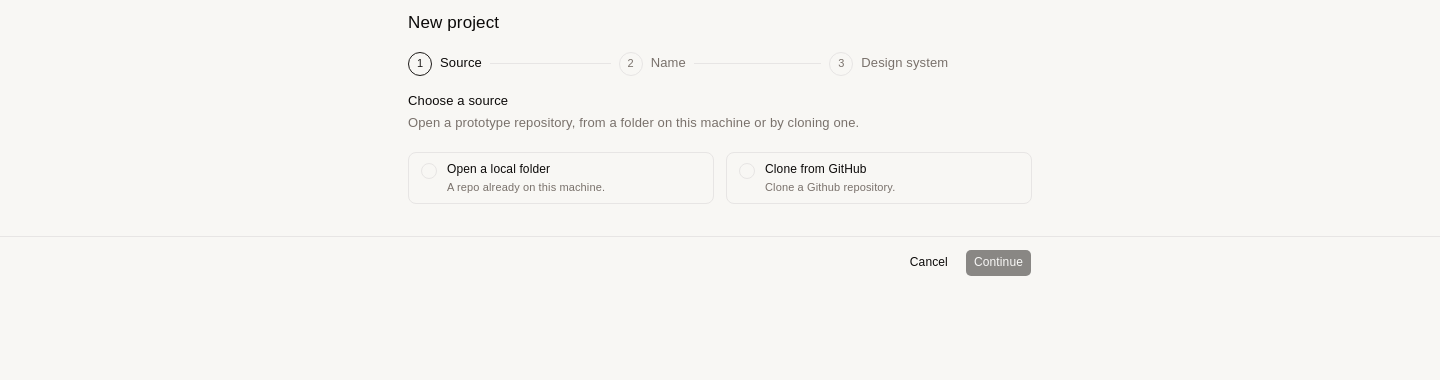
Test: NewProjectPage › swaps the revealed form when the other source is picked
Click the label with test id "new-project-local": click(561, 178) x1=408 y1=152 x2=714 y2=204
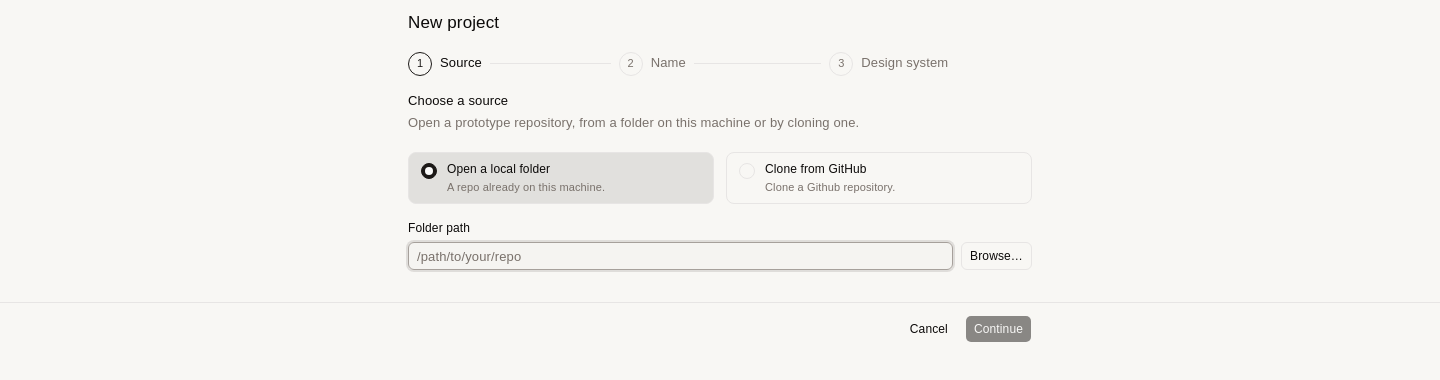
Expected: the form with test id "new-project-local-step" is shown, x1=408 y1=220 x2=1032 y2=270
Click the label with test id "new-project-clone": click(879, 178) x1=726 y1=152 x2=1032 y2=204
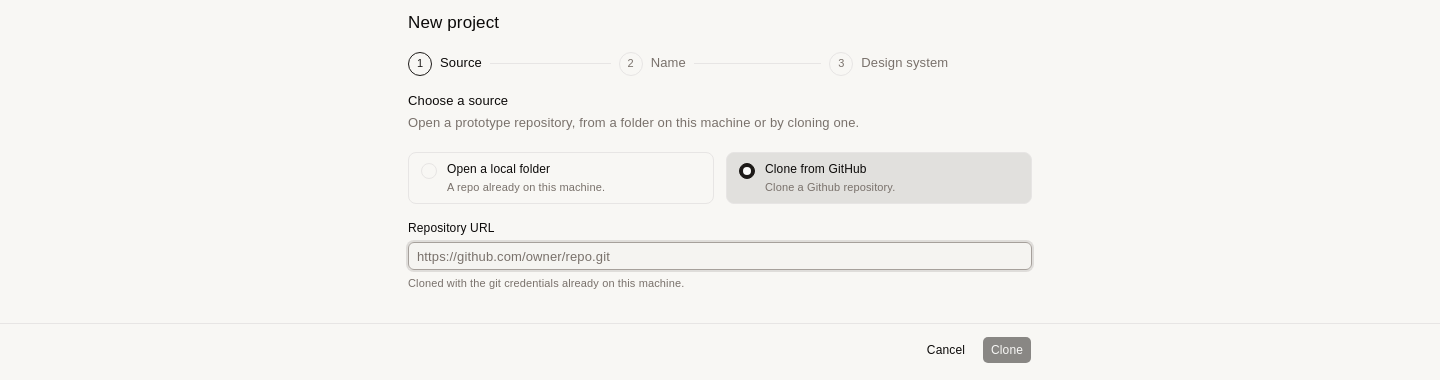
Expected: the form with test id "new-project-local-step" is gone
Expected: the form with test id "new-project-clone-step" is shown, x1=408 y1=220 x2=1032 y2=291
